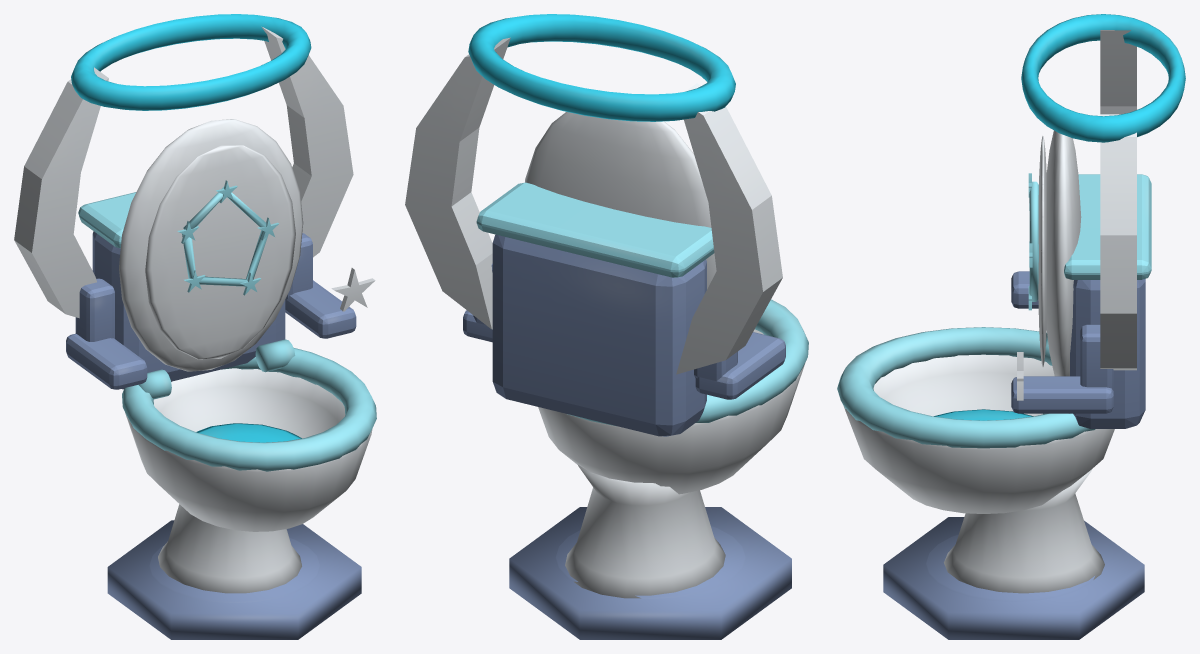
The model's file is AstralAltar.fbx.
The picture shows the model from 3 angles, left to right: view 1: azimuth 30°, elevation 25°; view 2: azimuth 150°, elevation 25°; view 3: azimuth 270°, elevation 25°; orthographic projection. The views are drawn at different scales.
Parts seen in each view (by area): view 1: AstralAltar; view 2: AstralAltar; view 3: AstralAltar.
Boxes of the visible parts, bbox=[...] form: AstralAltar: bbox=[14, 14, 376, 639]; AstralAltar: bbox=[405, 14, 808, 639]; AstralAltar: bbox=[837, 14, 1185, 639].
Bounding box in the file's own units: 3.54 × 5.38 × 3.23.
1 material, 1 textured.
